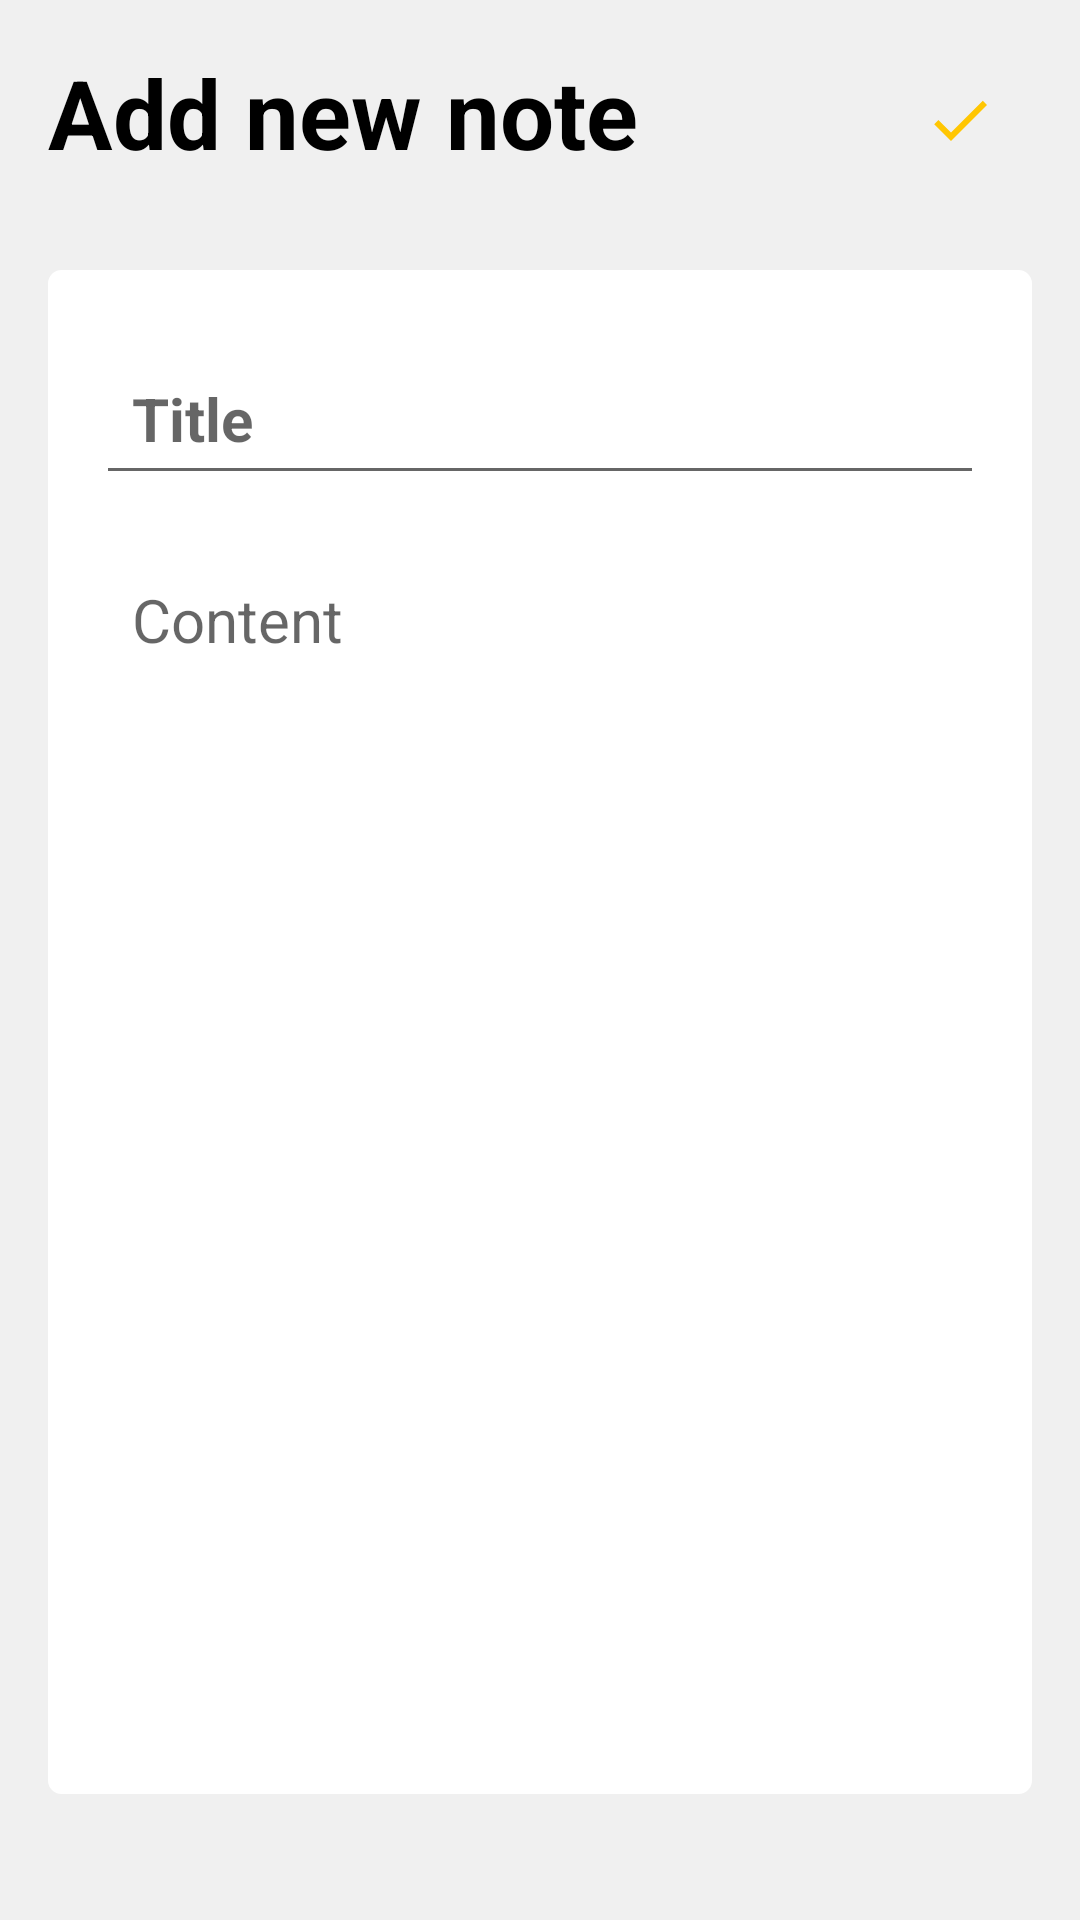

Where to tap for icons on this 1080px x 1920px app screen, as point (x, y):
done: point (960, 121)
